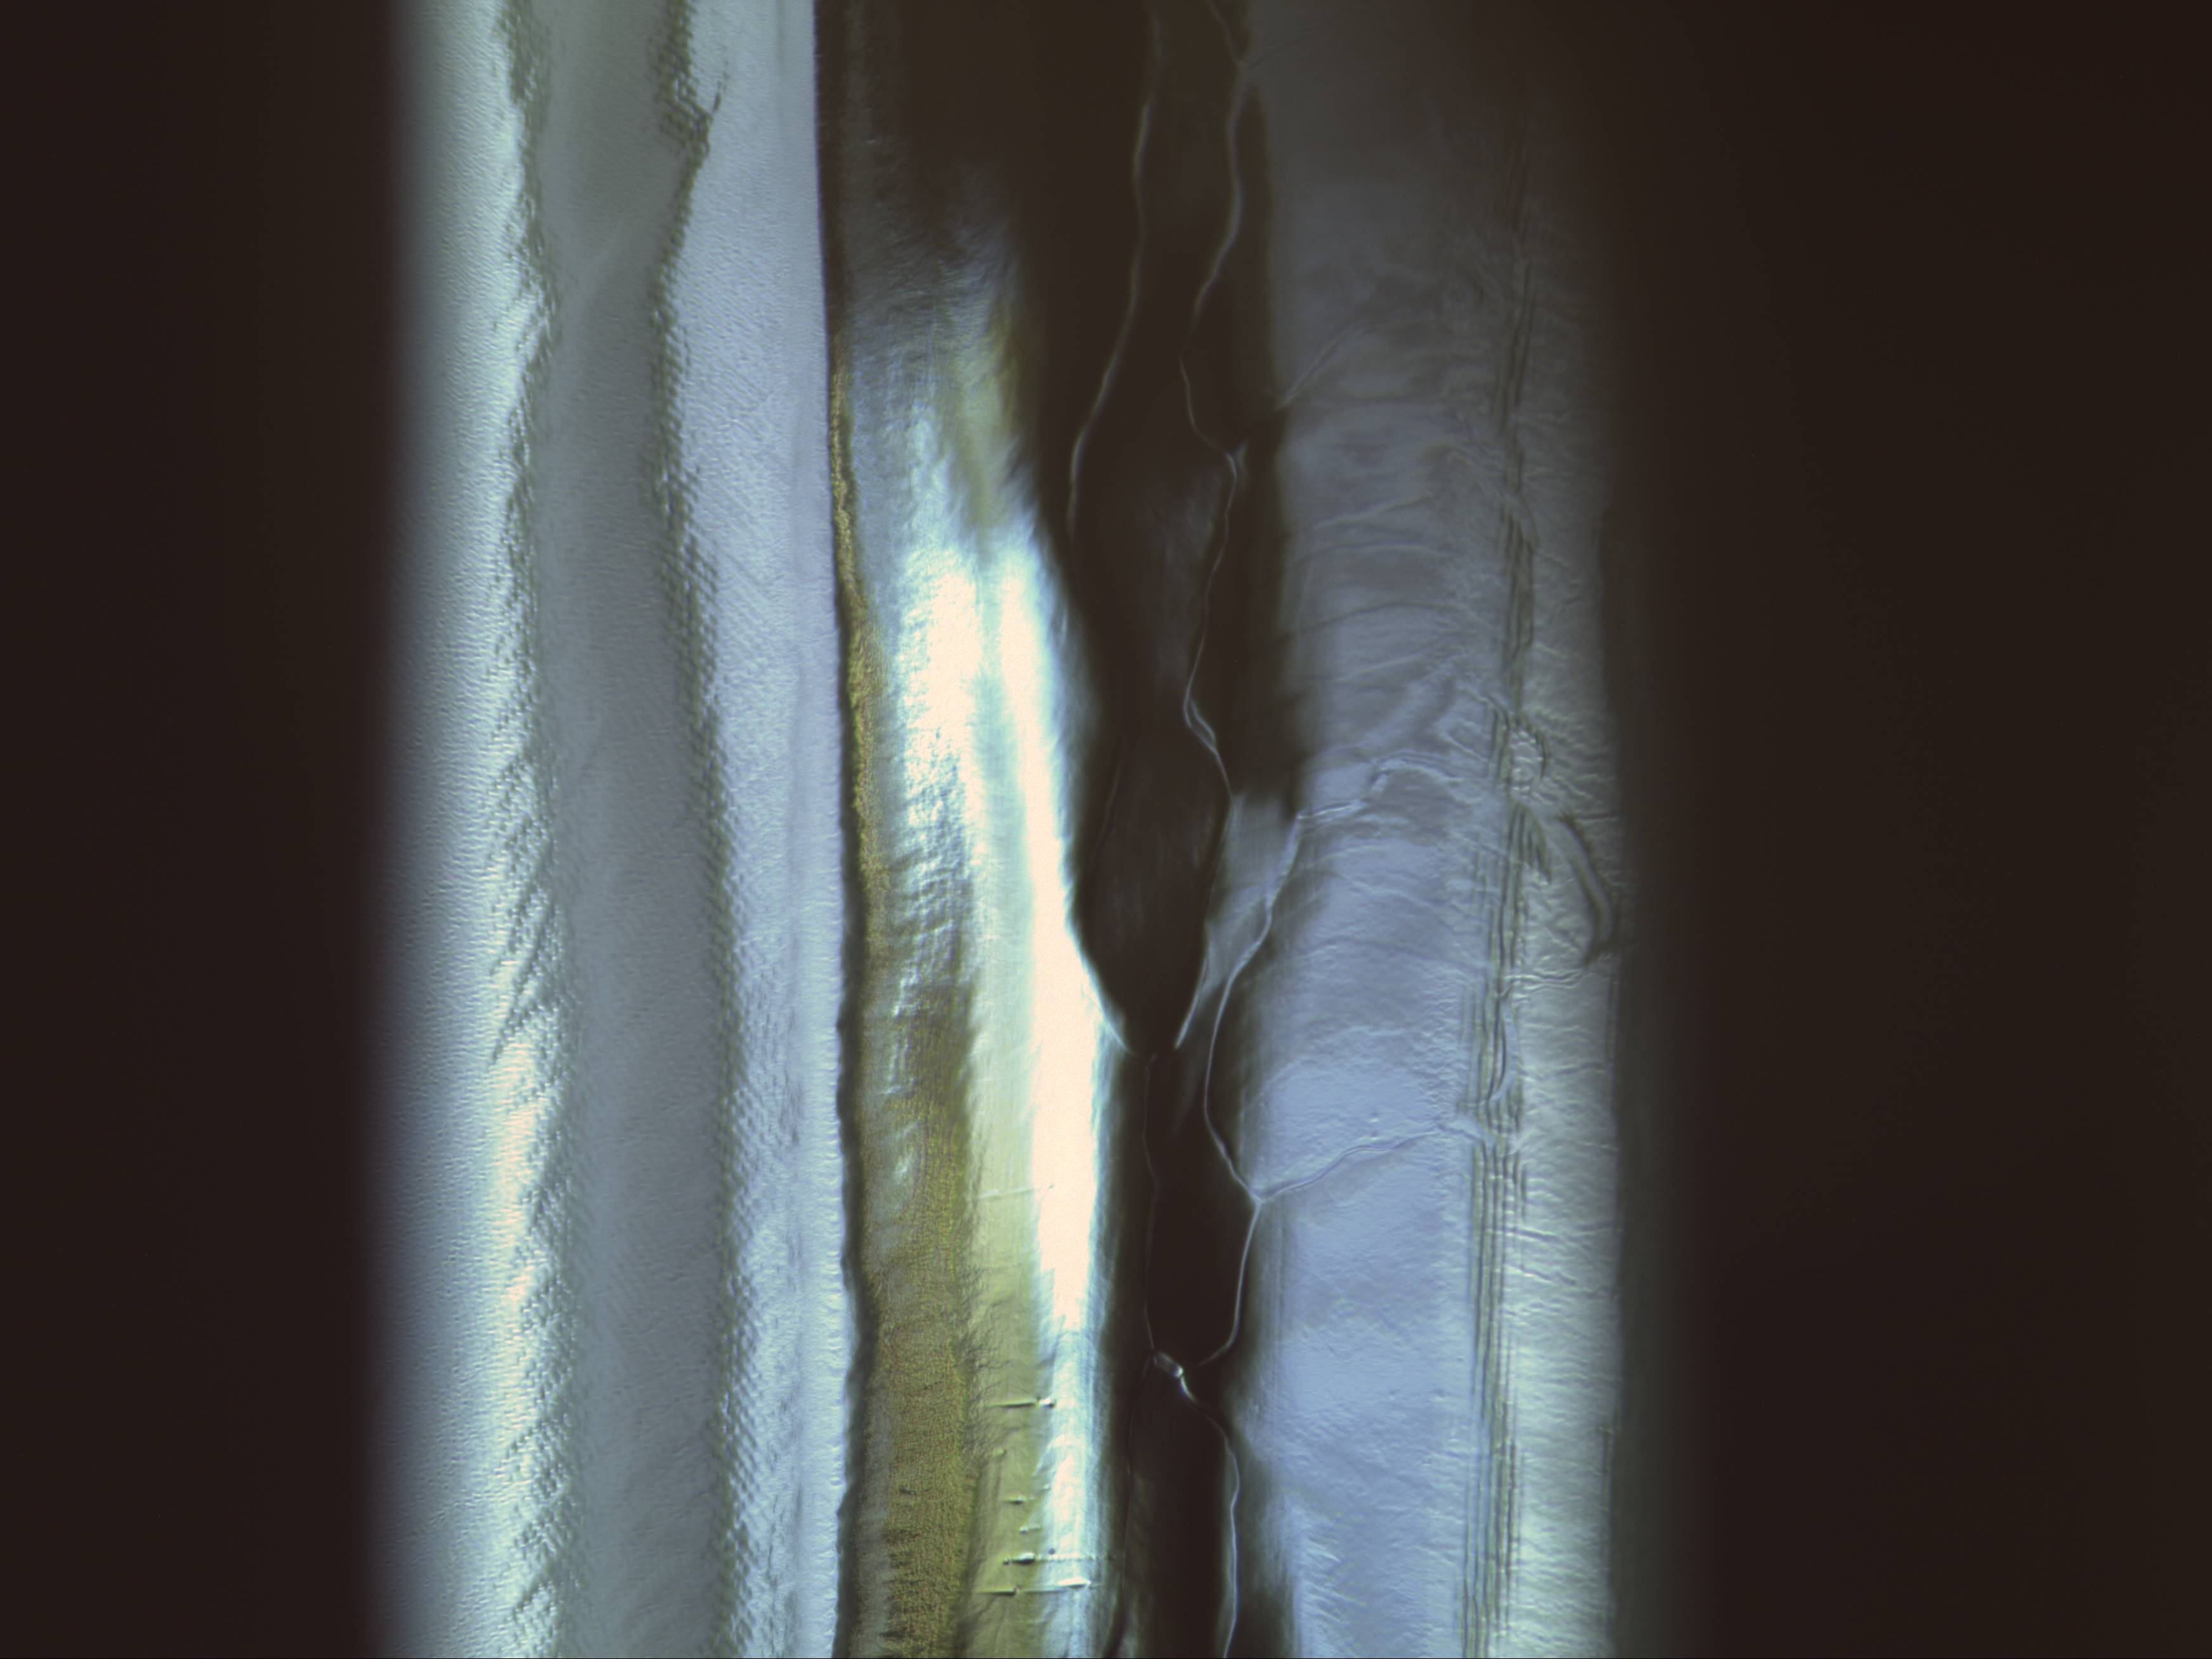defect: (970, 1385, 1069, 1419), (977, 1579, 1099, 1601), (996, 1547, 1050, 1570), (991, 1485, 1040, 1509)
